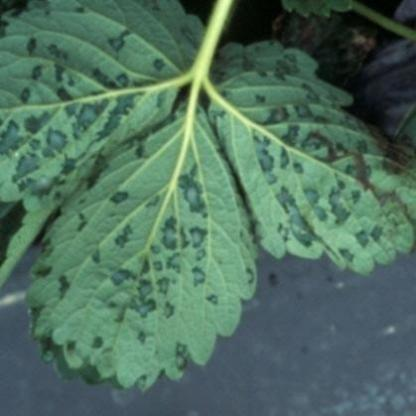Strawberry_Angular_LeafSpot: (25, 100, 258, 396), (0, 0, 206, 287), (205, 39, 415, 276)
